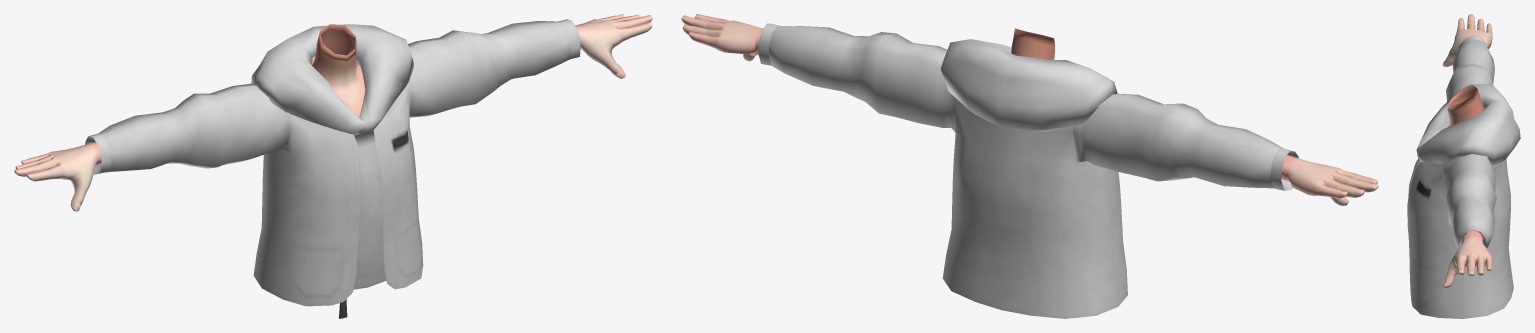
The model's file is tr0740_00_upb03.gltf.
3 views of the same model, side by side, from view 1: azimuth 30°, elevation 25°; view 2: azimuth 150°, elevation 25°; view 3: azimuth 270°, elevation 25° (orthographic). The views are drawn at different scales.
Parts seen in each view (by area): view 1: upb03_cloth_mesh_shape:upperbody03, upb03_upperbody_mesh_shape:upperbody03, upb03_upperskin_mesh_shape:upperbody03_skin; view 2: upb03_cloth_mesh_shape:upperbody03, upb03_upperbody_mesh_shape:upperbody03, upb03_upperskin_mesh_shape:upperbody03_skin; view 3: upb03_cloth_mesh_shape:upperbody03, upb03_upperbody_mesh_shape:upperbody03, upb03_upperskin_mesh_shape:upperbody03_skin.
Part boxes in pixels (bbox=[...]): upb03_cloth_mesh_shape:upperbody03: bbox=[85, 19, 580, 306]; upb03_upperbody_mesh_shape:upperbody03: bbox=[251, 24, 413, 134]; upb03_upperskin_mesh_shape:upperbody03_skin: bbox=[14, 14, 652, 211]; upb03_cloth_mesh_shape:upperbody03: bbox=[758, 23, 1298, 318]; upb03_upperbody_mesh_shape:upperbody03: bbox=[940, 39, 1117, 131]; upb03_upperskin_mesh_shape:upperbody03_skin: bbox=[681, 14, 1378, 205]; upb03_cloth_mesh_shape:upperbody03: bbox=[1407, 35, 1513, 318]; upb03_upperbody_mesh_shape:upperbody03: bbox=[1416, 84, 1520, 165]; upb03_upperskin_mesh_shape:upperbody03_skin: bbox=[1442, 14, 1492, 288].
Size of what is drawn, in the model's own units: 1.63 by 0.6358 by 0.3018.
Materials: 2 (2 with a texture image).
